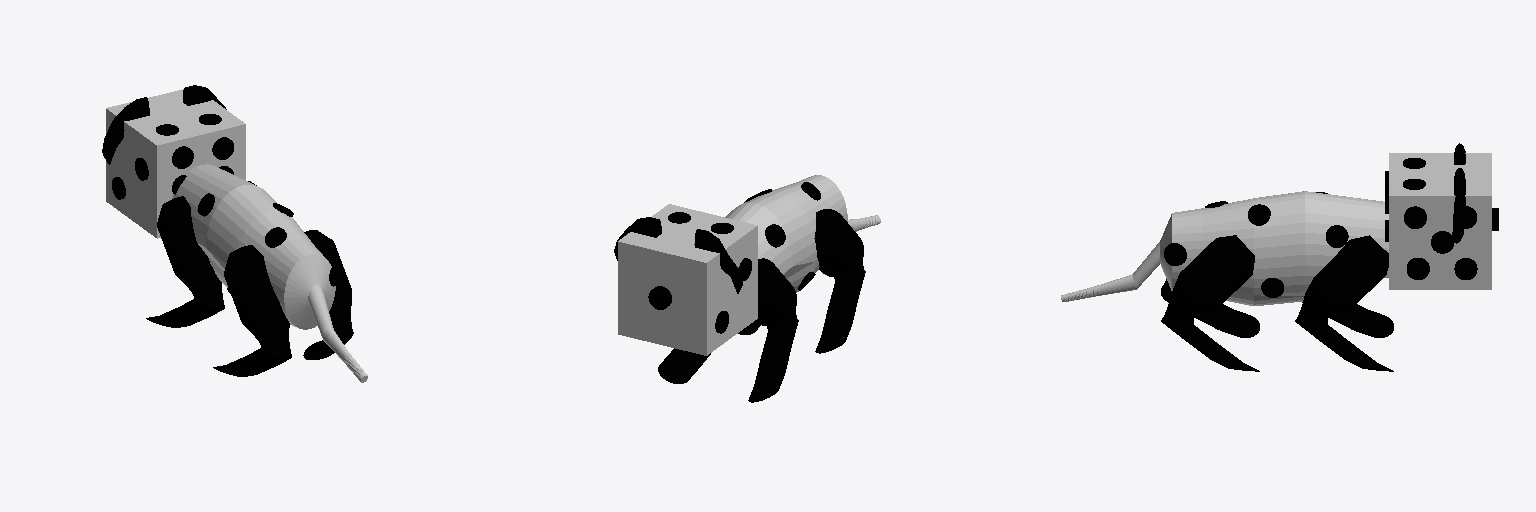
The model's file is DDog.obj.
The picture shows the model from 3 angles: view 1: azimuth 30°, elevation 25°; view 2: azimuth 150°, elevation 25°; view 3: azimuth 270°, elevation 25°; orthographic projection.
Visible parts, largest first — view 1: Cylinder, Cube, Cylinder.022, Cylinder.021, Cylinder.016; view 2: Cube, Cylinder, Cylinder.021, Cylinder.022, Cylinder.016; view 3: Cylinder, Cube, Cylinder.022, Cylinder.021, Cylinder.016.
Part boxes in pixels (x1,y1,x2,y2): Cylinder: (172,164,367,382); Cube: (106,89,245,238); Cylinder.022: (213,230,353,376); Cylinder.021: (146,181,256,327); Cylinder.016: (102,85,226,164); Cube: (618,204,757,355); Cylinder: (725,175,880,292); Cylinder.021: (658,258,798,402); Cylinder.022: (738,197,865,353); Cylinder.016: (614,217,742,293); Cylinder: (1061,191,1388,305); Cube: (1389,153,1491,289); Cylinder.022: (1161,235,1259,371); Cylinder.021: (1295,235,1393,371); Cylinder.016: (1452,143,1466,243).
Bounding box in the file's own units: 1.17 × 1.71 × 3.47.